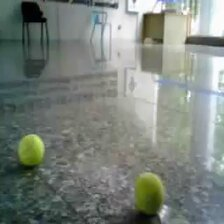tennis: (133, 171, 162, 211), (18, 133, 43, 166)
